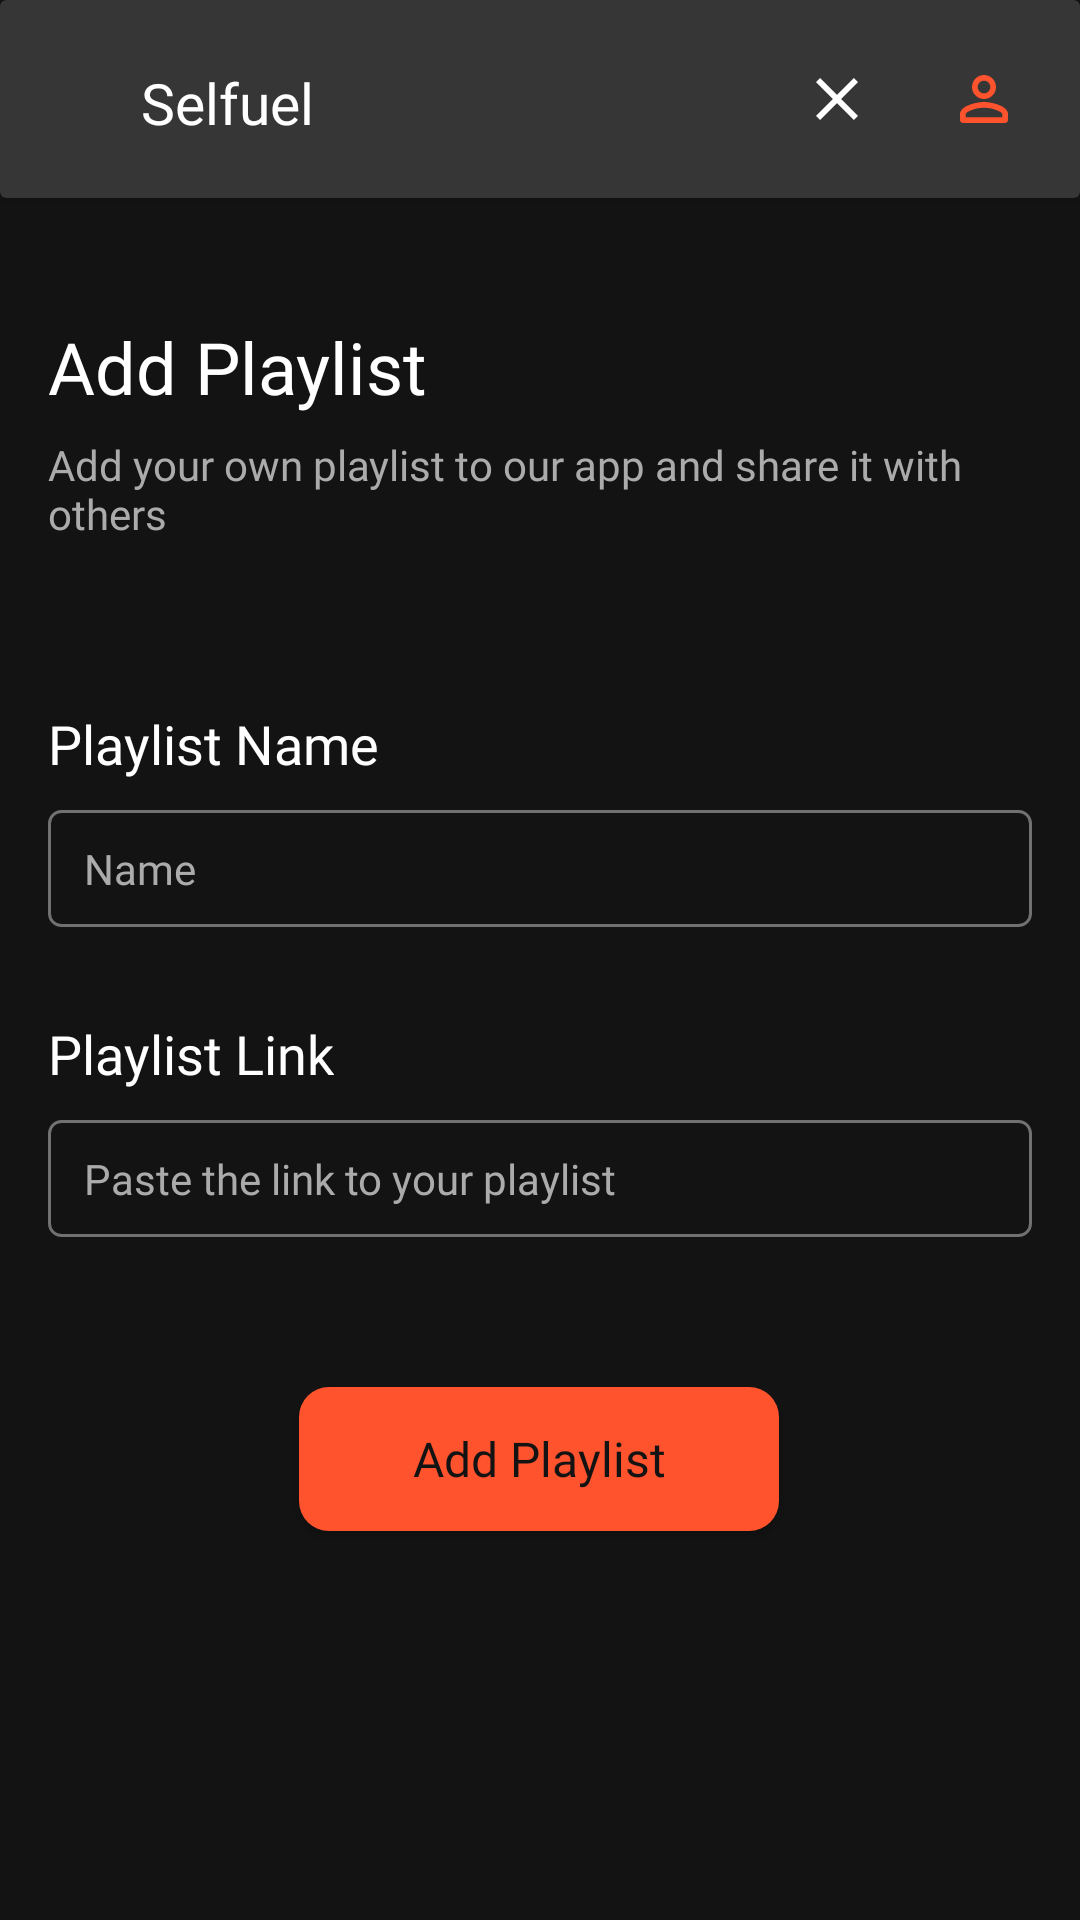

Screen size 1080x1920. Icon name, then its box in pixels as [x1,y1,x2,y2]:
cancel: [816,78,858,120]
person: [960,75,1008,123]
